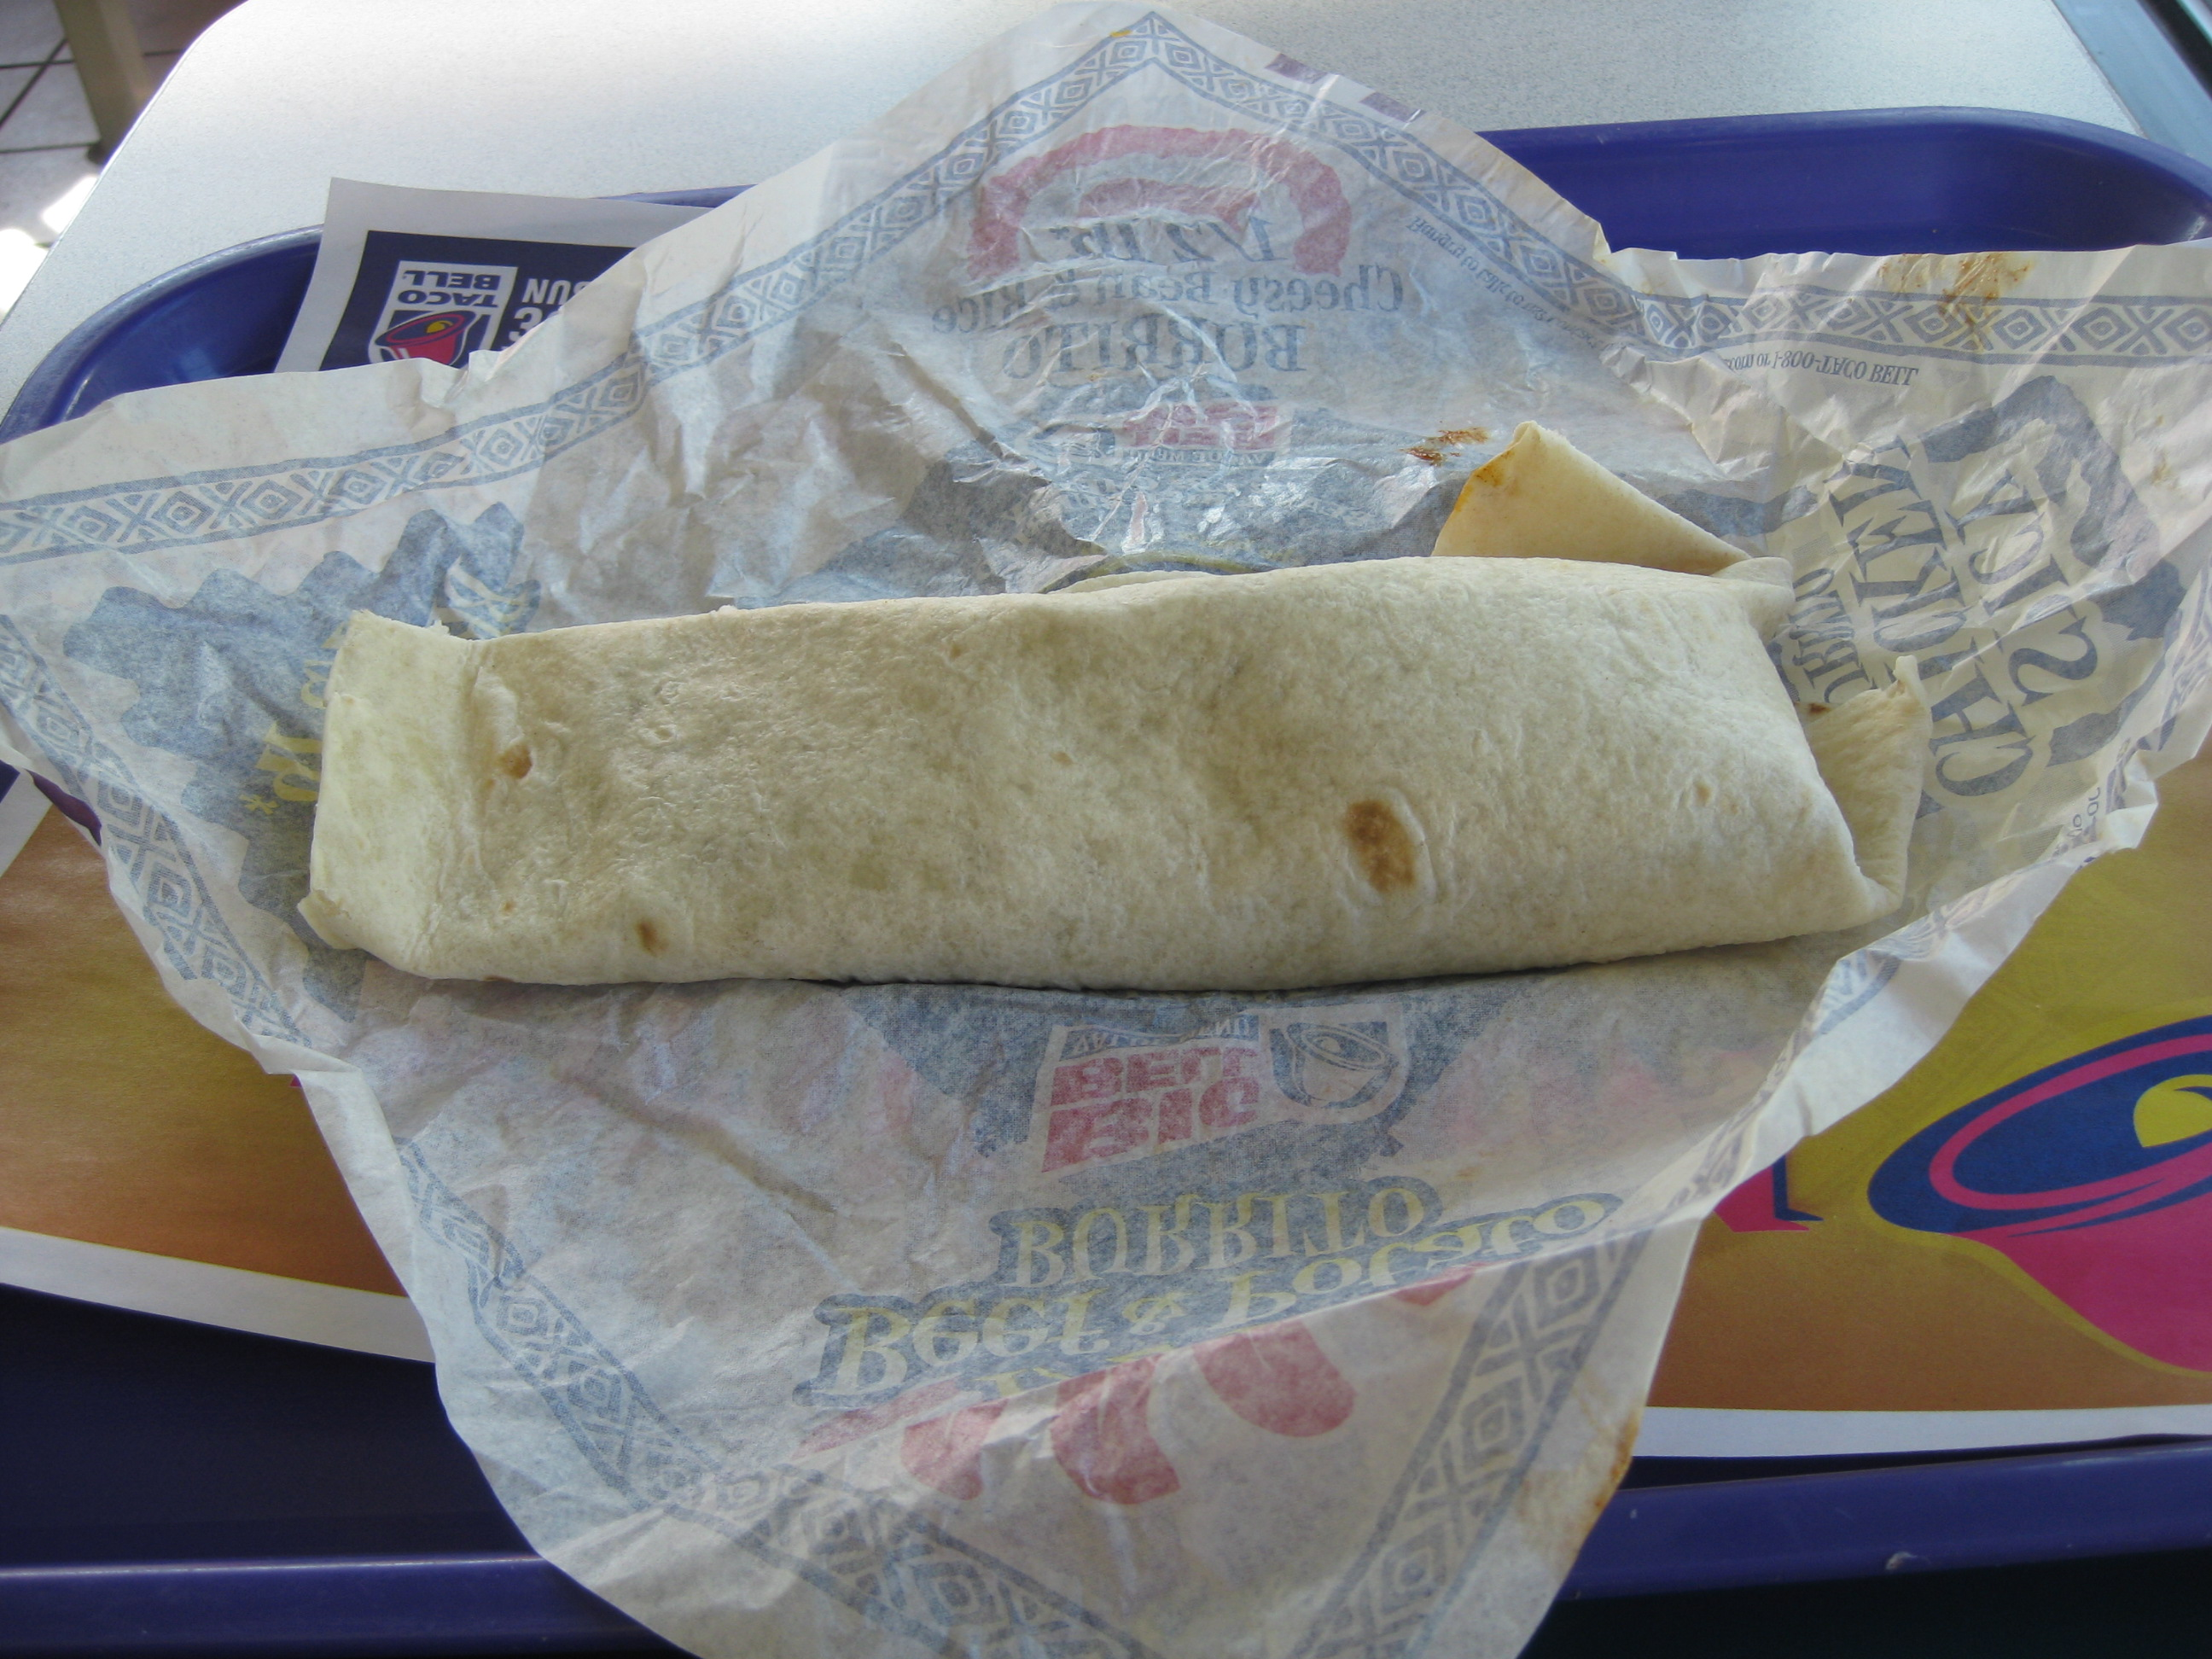burrito: (302, 567, 1936, 1002)
